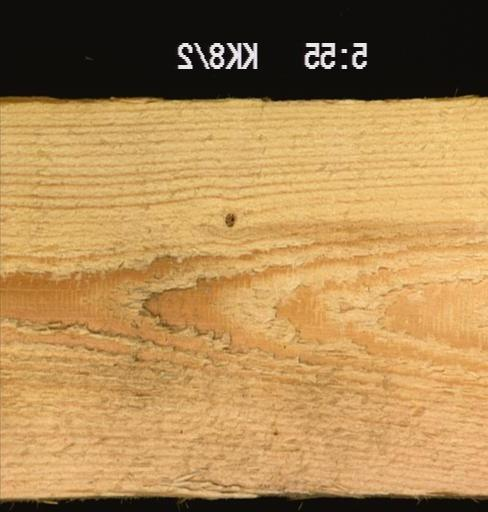dry_knot: (225, 210, 235, 221)
